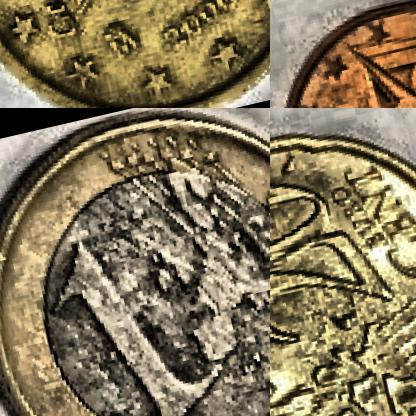coin: (0, 108, 269, 415), (270, 108, 415, 415), (0, 0, 269, 107), (270, 0, 415, 107)
